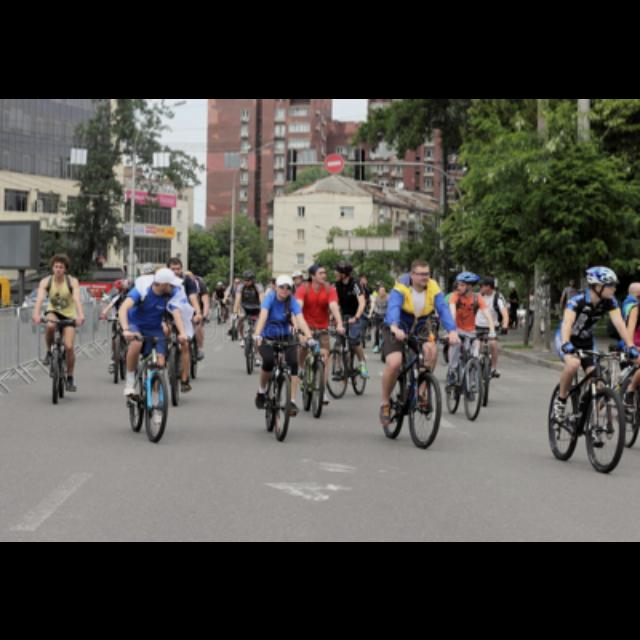With Helmet: (585, 259, 619, 301)
Without Helmet: (406, 256, 434, 288)
